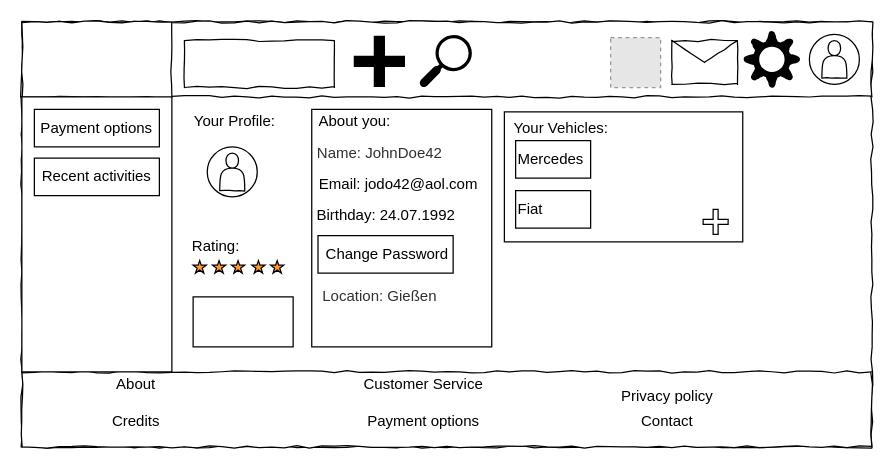
Image size: 894x469. Some labels were removed from this diagram. Grey dashed boxes stand in for pictures. The shapes that lost their labels are listed below. From the top down, each one's centre as x and y in pixels, then its label:
At (96,59): "LOGO".
At (258,63): "My Cases".
At (242,321): "View Ratings".
